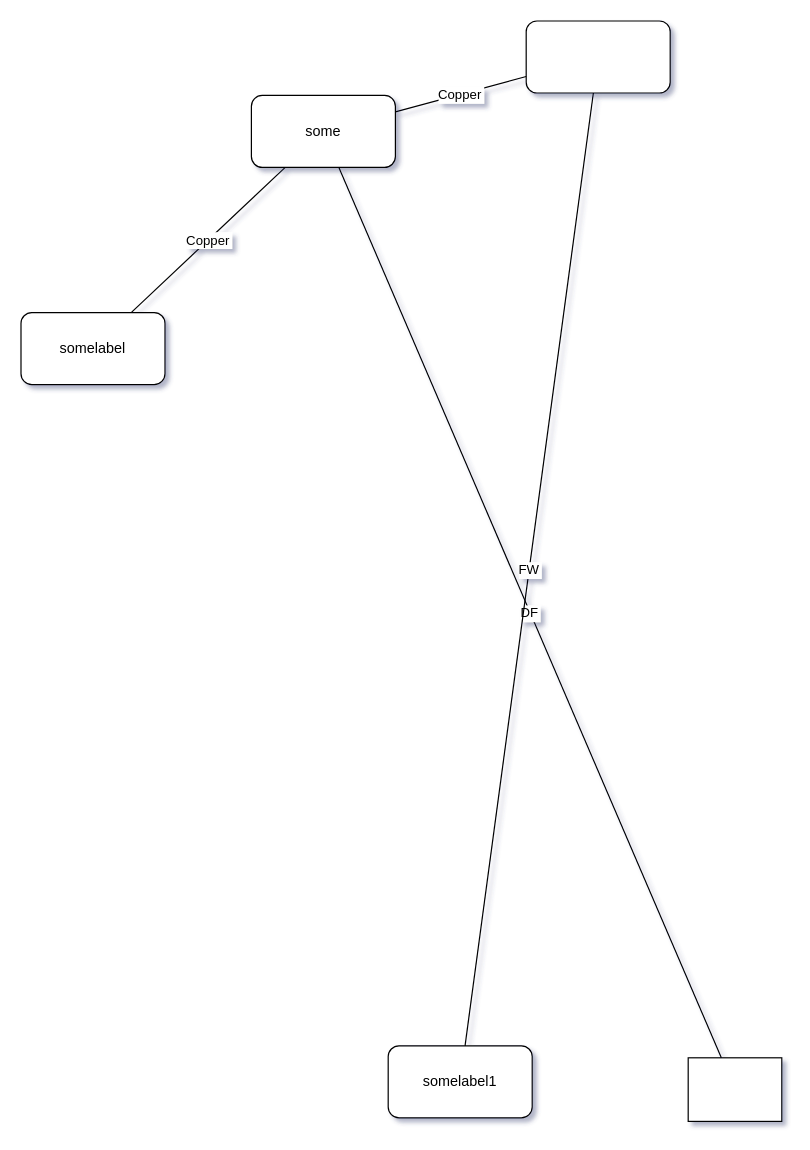
Some shapes in this 810 by 1150 pixel diagram are drawn without their labels. Each missing label, with the centre of its shape:
R1: the point at 597,56
R1,2: the point at 734,1089
